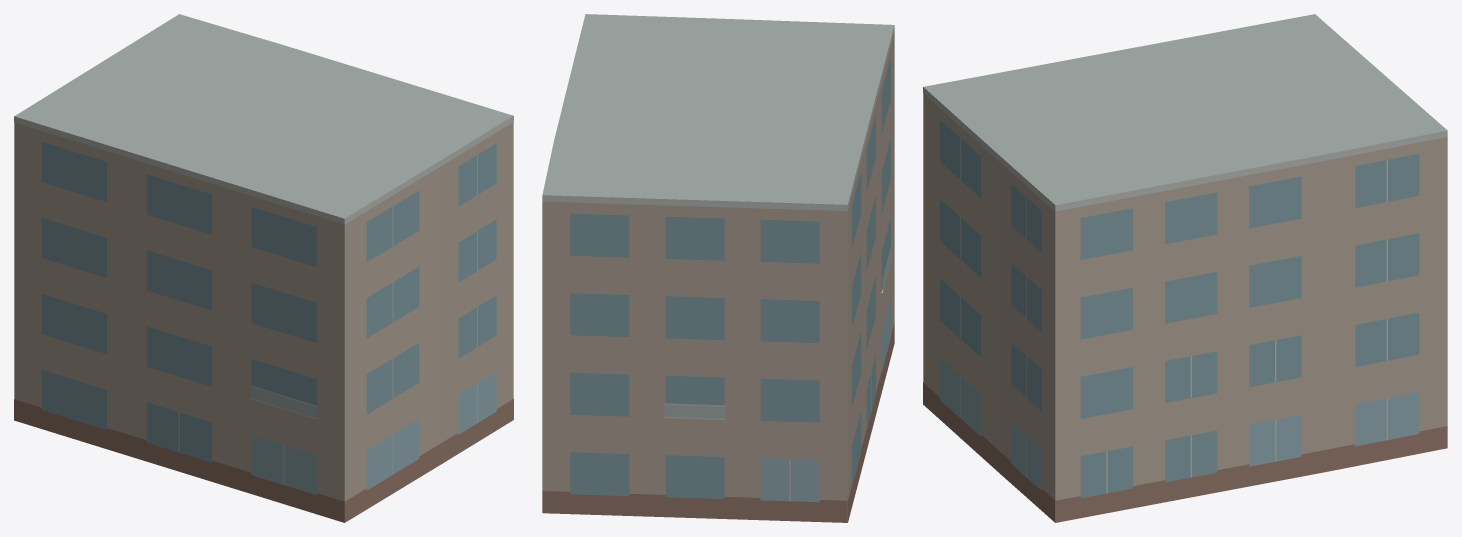
File: survey-upis-32781688.glb
3 renders of one model, left to right at view 1: azimuth 30°, elevation 25°; view 2: azimuth 150°, elevation 25°; view 3: azimuth 270°, elevation 25°, orthographic. The views are drawn at different scales.
Parts seen in each view (by area): view 1: survey-upis-32781688.tmp; view 2: survey-upis-32781688.tmp; view 3: survey-upis-32781688.tmp.
Boxes of the visible parts, left/top/right/bottom form: survey-upis-32781688.tmp: left=14, top=14, right=513, bottom=522; survey-upis-32781688.tmp: left=542, top=14, right=894, bottom=522; survey-upis-32781688.tmp: left=923, top=14, right=1447, bottom=522.
Size of the model in its own units: 15.76 by 12.2 by 18.27.
